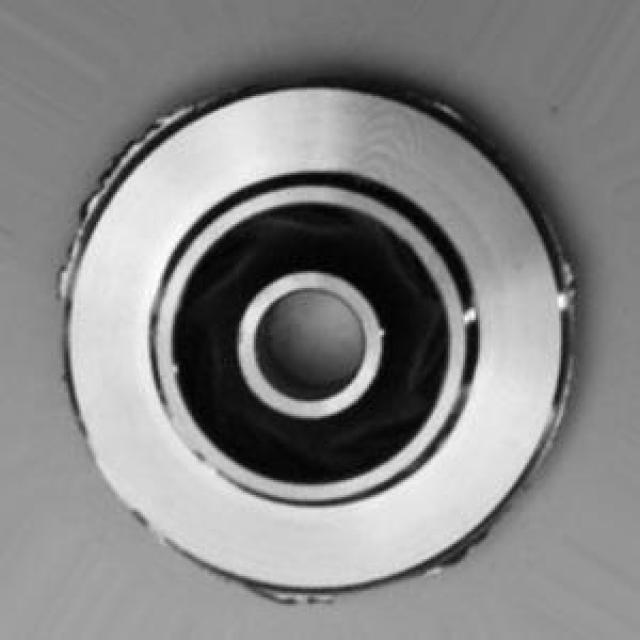Defect: (542, 248, 586, 310)
